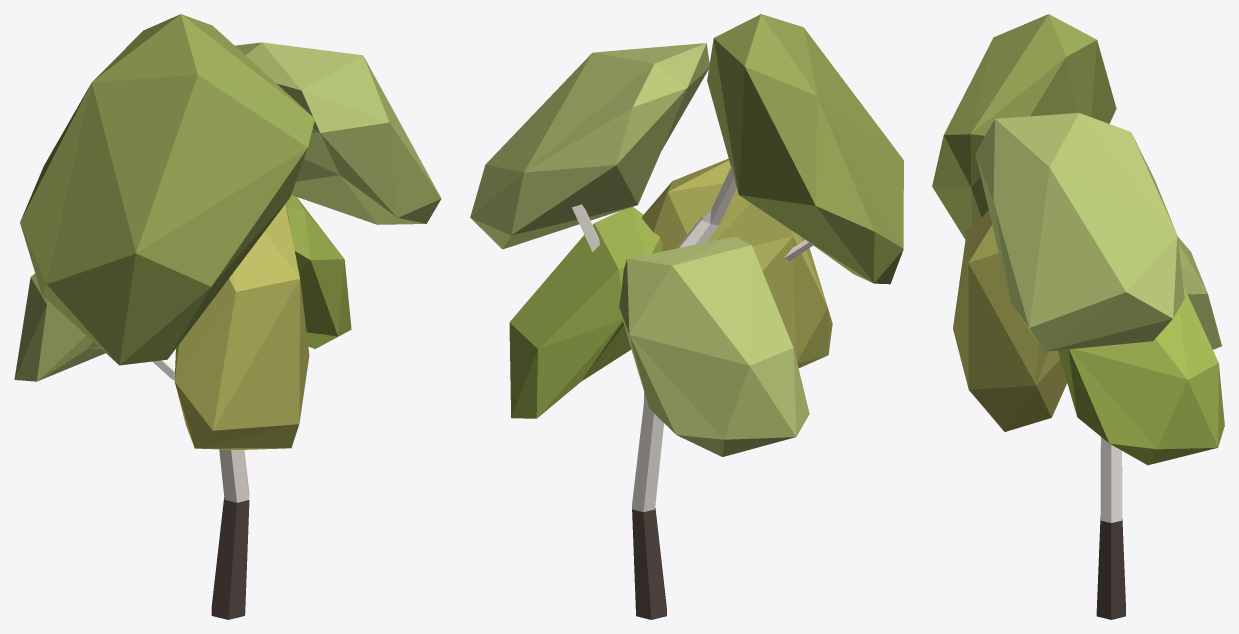
File: Tree.glb
3 renders of one model, left to right at view 1: azimuth 30°, elevation 25°; view 2: azimuth 150°, elevation 25°; view 3: azimuth 270°, elevation 25°, orthographic. The views are drawn at different scales.
Visible parts, largest first — view 1: Tree Type5 02 Model; view 2: Tree Type5 02 Model; view 3: Tree Type5 02 Model.
Part boxes in pixels (left/top/right/bottom): Tree Type5 02 Model: left=14, top=14, right=441, bottom=619; Tree Type5 02 Model: left=470, top=14, right=903, bottom=619; Tree Type5 02 Model: left=932, top=14, right=1224, bottom=619.
Size of the model in its own units: 2.08 by 3.21 by 1.51.
1 material, 1 textured.
